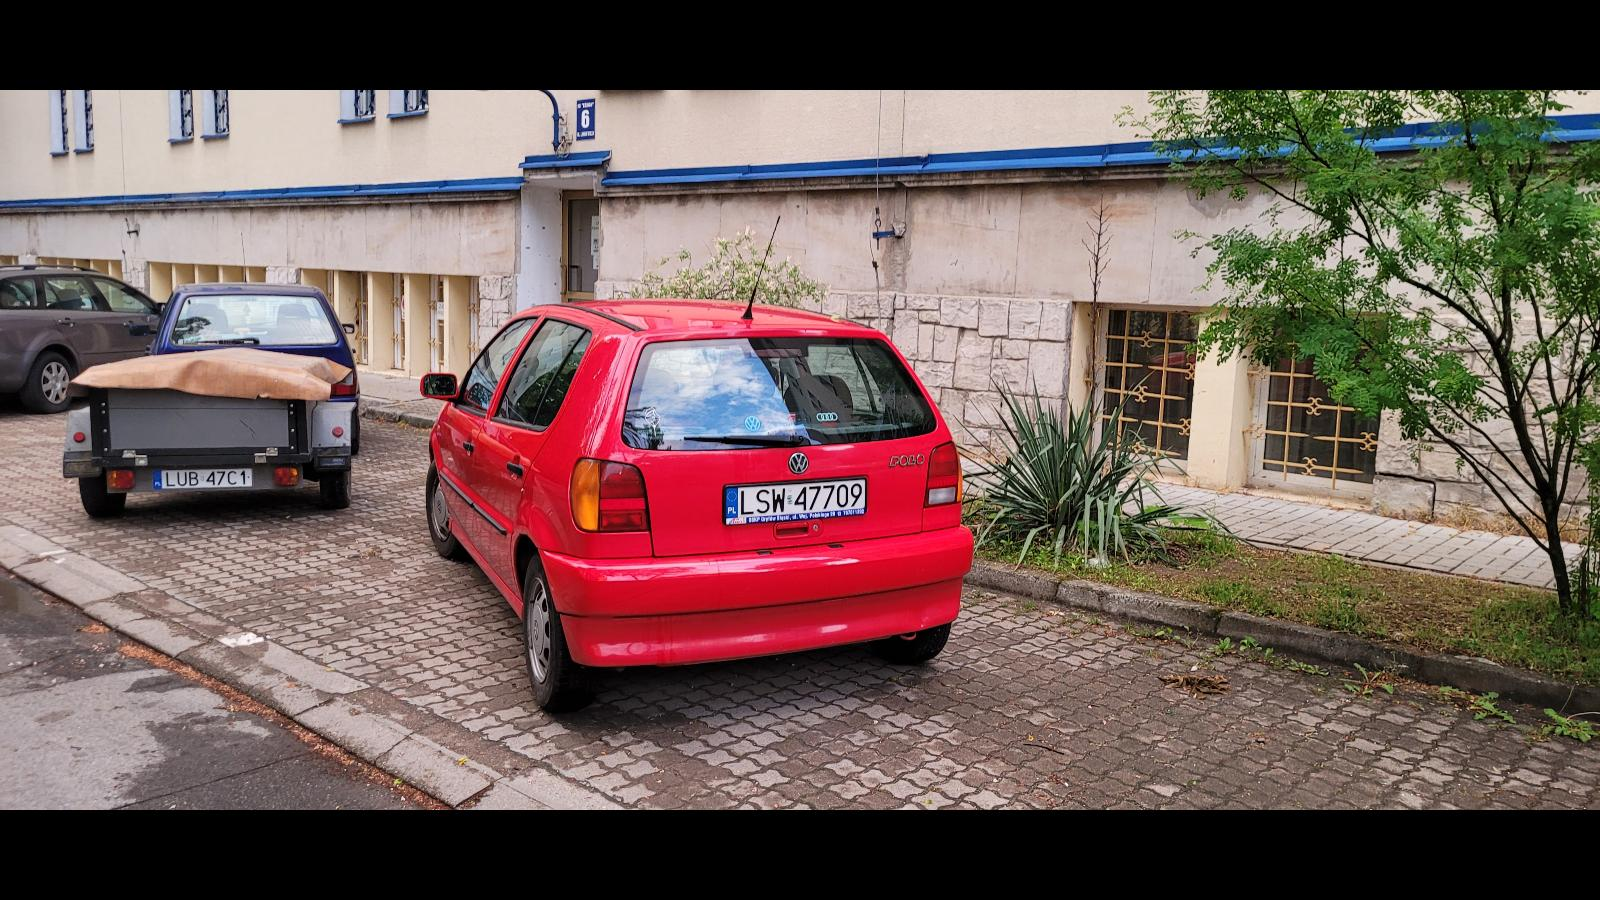plates: (725, 478, 867, 524), (152, 468, 253, 490)
